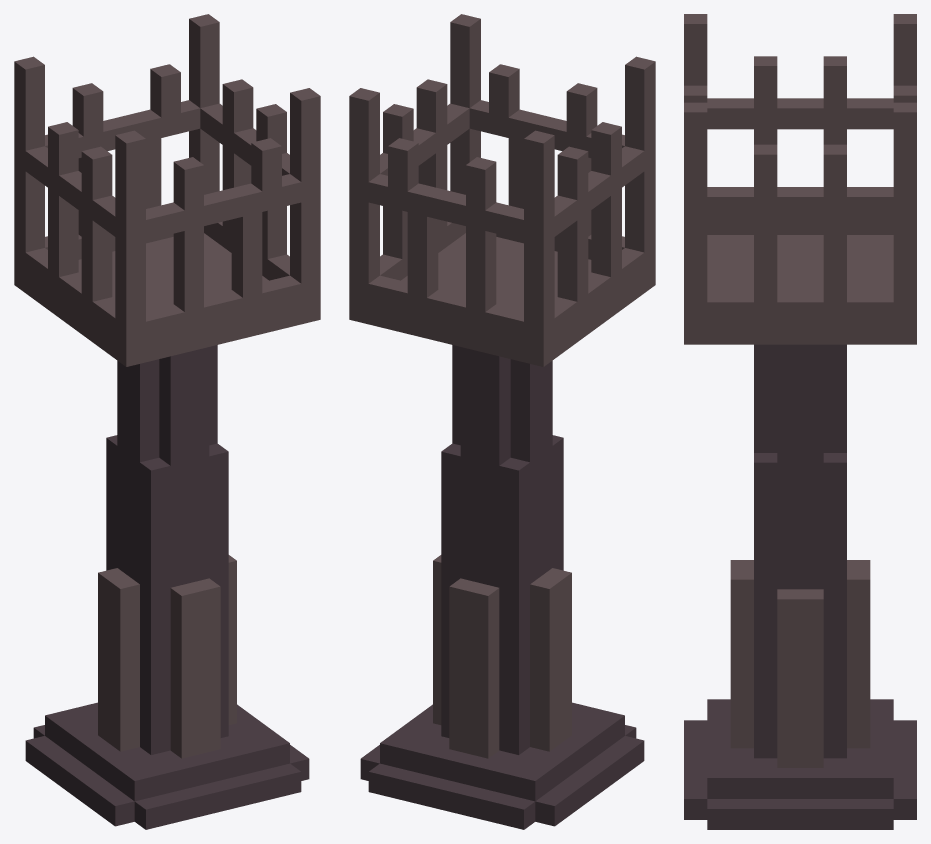
Rendered from antorcha3.obj.
The picture shows the model from 3 angles, left to right: view 1: azimuth 30°, elevation 25°; view 2: azimuth 150°, elevation 25°; view 3: azimuth 270°, elevation 25°; orthographic projection. The views are drawn at different scales.
Bounding box in the file's own units: 1 × 3.4 × 1.
1 material, 1 textured.
